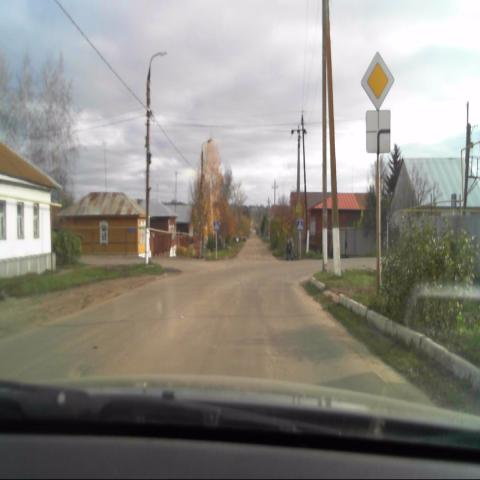8_13: (365, 112, 391, 154)
